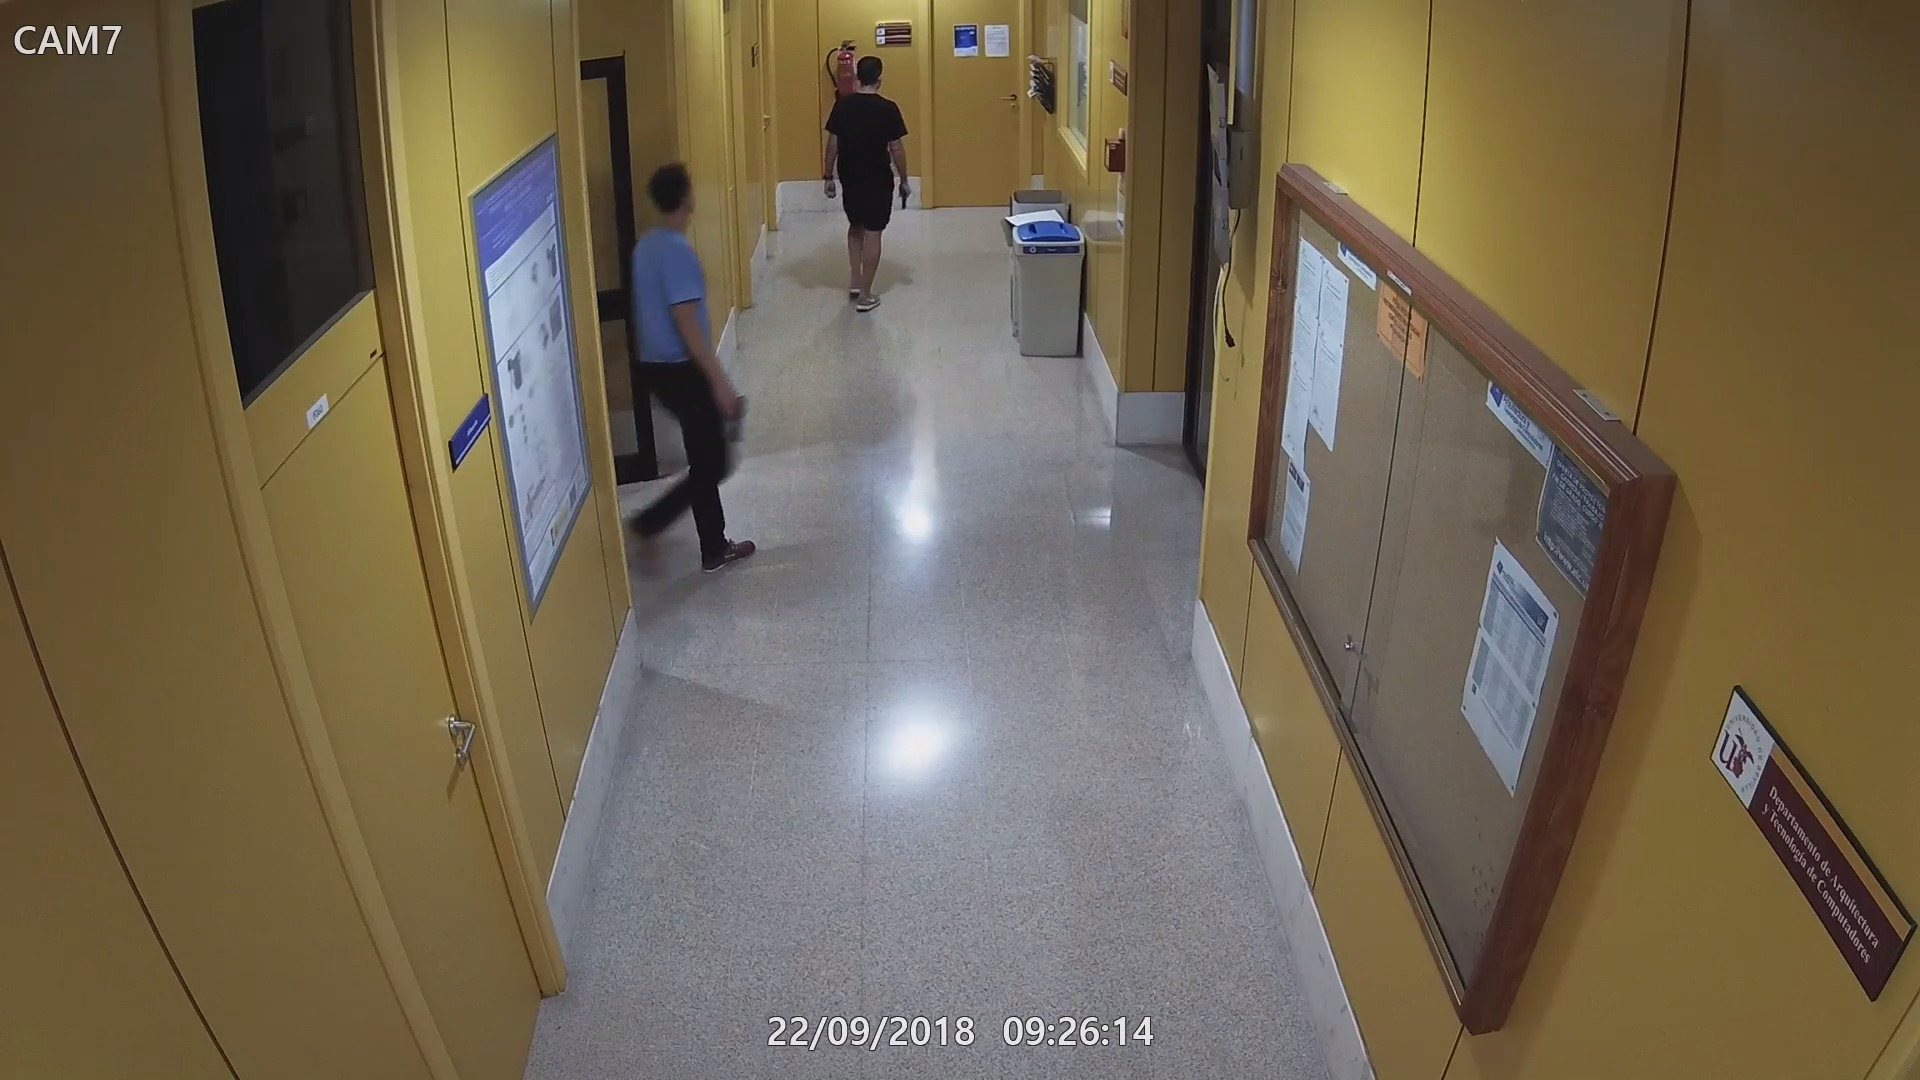Handgun: (716, 382, 748, 448), (891, 181, 918, 208)
